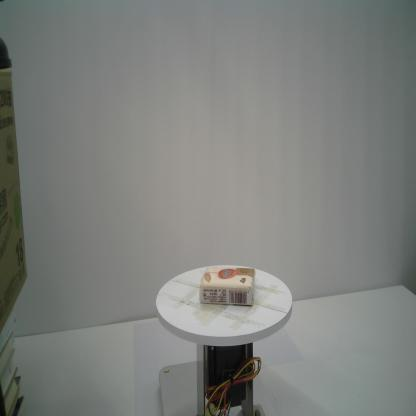Tissue: (198, 265, 256, 307)
